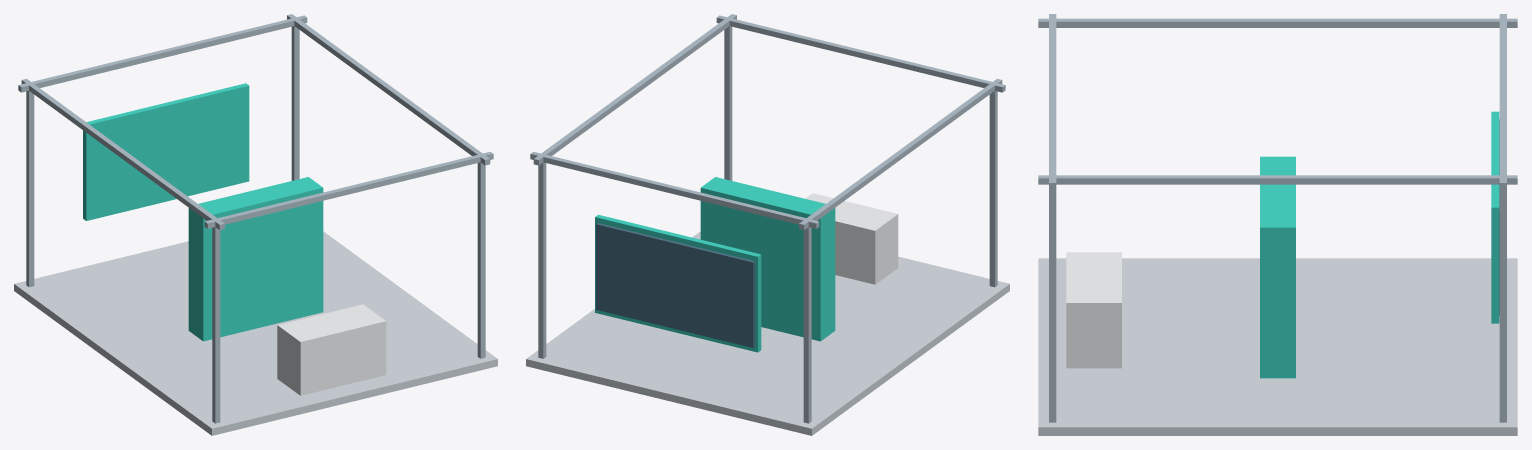
3 renders of one model, left to right at view 1: azimuth 30°, elevation 25°; view 2: azimuth 150°, elevation 25°; view 3: azimuth 270°, elevation 25°, orthographic. The views are drawn at different scales.
Visible parts, largest first — view 1: Exhibition Booth Concept; view 2: Exhibition Booth Concept; view 3: Exhibition Booth Concept.
Boxes of the visible parts, x1,y1,x2,y2 form: Exhibition Booth Concept: (14, 14, 497, 435); Exhibition Booth Concept: (526, 14, 1009, 435); Exhibition Booth Concept: (1038, 14, 1517, 435).
Size of the model in its own units: 5 by 3.49 by 6.
